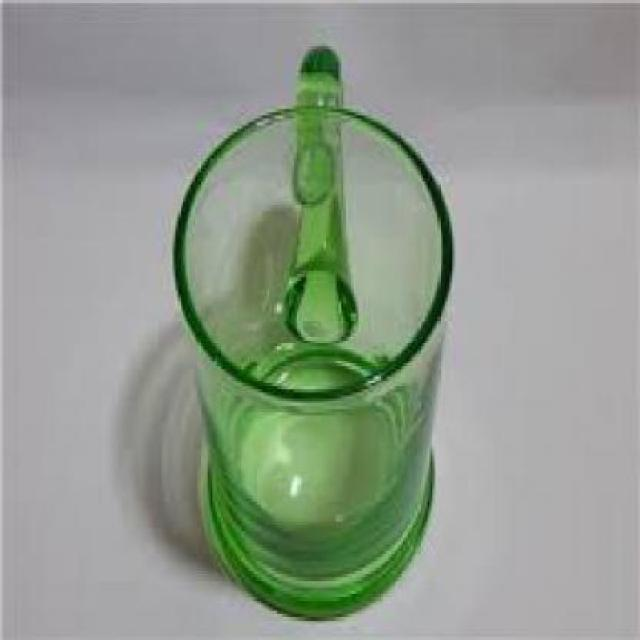kaca: (174, 43, 451, 617)
